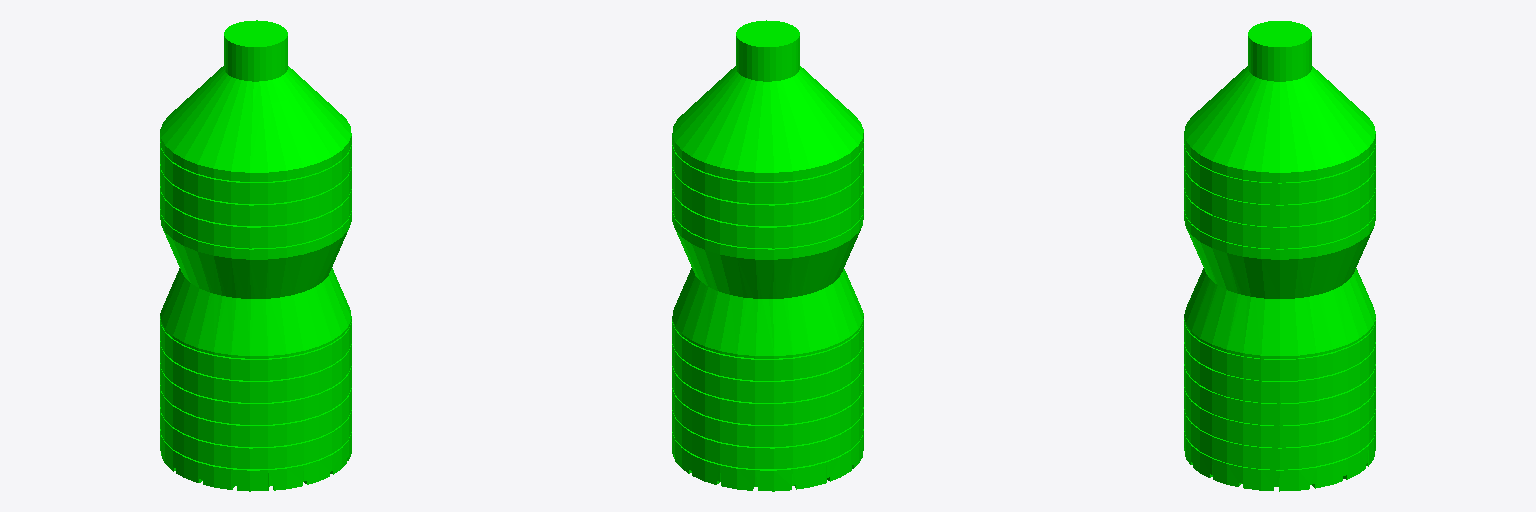
URDF robot description (bottle):
<robot name="bottle">
<link name="baseLink">
    <contact>
        <lateral_friction value="1.0"/>
        <rolling_friction value="0.0"/>
        <contact_cfm value="0.0"/>
        <contact_erp value="1.0"/>
    </contact>
    <inertial>
        <origin rpy="0.0 0.0 0.0" xyz="0.0 0.0 0.0"/>
        <mass value="0.2"/>
        <inertia ixx="1.0" ixy="0.0" ixz="0.0" iyy="1.0" iyz="0.0" izz="1.0"/>
    </inertial>
    <visual>
        <origin rpy="0.0 0.0 0.0" xyz="0.0 0.0 0.0"/>
        <geometry>
            <mesh filename="bottle.obj" scale="1.0 1.0 1.0"/>
        </geometry>
        <material name="red">
            <color rgba="0.0 1.0 0.0 1.0"/>
        </material>
    </visual>
    <collision>
        <origin rpy="0.0 0.0 0.0" xyz="0.0 0.0 0.0"/>
        <geometry>
            <mesh filename="bottle_vhacd.obj" scale="1.0 1.0 1.0"/>
        </geometry>
    </collision>
</link>
</robot>

--- Facts derived from the render (not from the file) ---
3 views of the same robot in one strip: view 1: azimuth 30°, elevation 25°; view 2: azimuth 150°, elevation 25°; view 3: azimuth 270°, elevation 25° (orthographic).
Model bottle with 1 links and 0 joints (none), rooted at baseLink, posed every joint at zero.
Links seen in each view (by area): view 1: baseLink; view 2: baseLink; view 3: baseLink.
Link boxes in pixels (x1=…): baseLink: x1=160, y1=20, x2=351, y2=491; baseLink: x1=672, y1=20, x2=863, y2=491; baseLink: x1=1184, y1=21, x2=1375, y2=491.
Size in the robot's own frame: 0.0833 by 0.0834 by 0.2 metres.
Meshes: 1 distinct files referenced, 1 mesh visuals loaded (1 OBJ).
